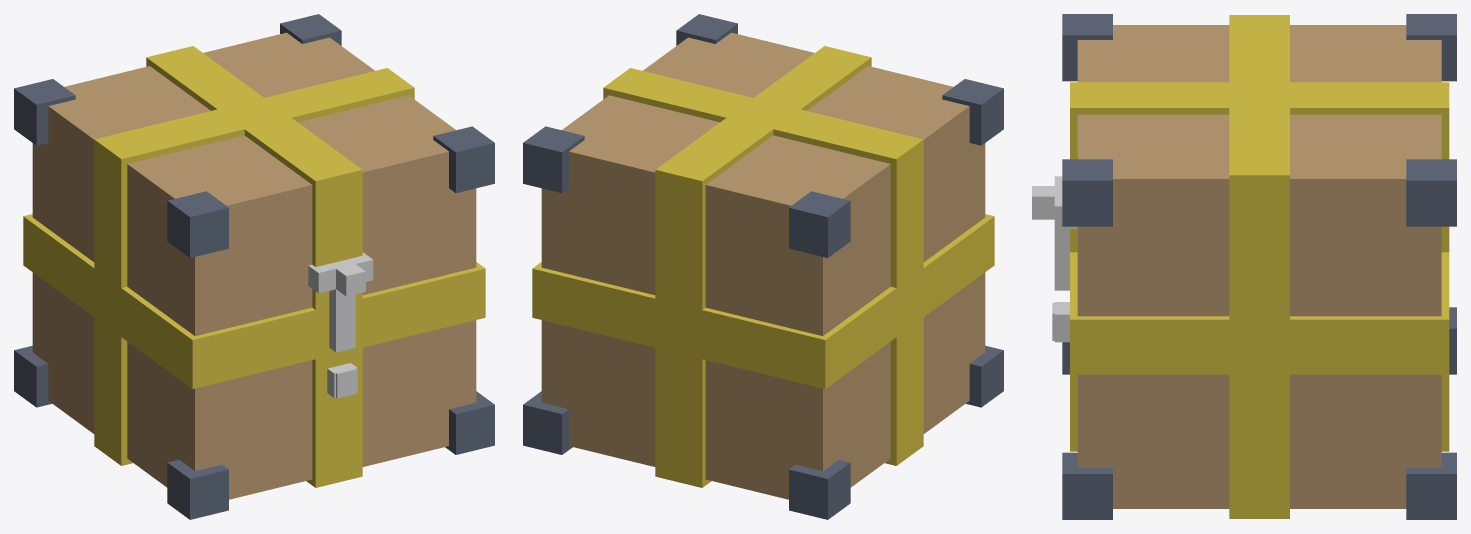
Rendered from 07_mystery_box.glb.
3 views of the same model, side by side, from view 1: azimuth 30°, elevation 25°; view 2: azimuth 150°, elevation 25°; view 3: azimuth 270°, elevation 25° (orthographic). The views are drawn at different scales.
Visible parts, largest first — view 1: MysteryBox; view 2: MysteryBox; view 3: MysteryBox.
Part boxes in pixels (x1,y1,x2,y2): MysteryBox: (14, 14, 494, 519); MysteryBox: (523, 14, 1003, 519); MysteryBox: (1032, 14, 1456, 519).
Bounding box in the file's own units: 0.78 × 0.75 × 0.84.
